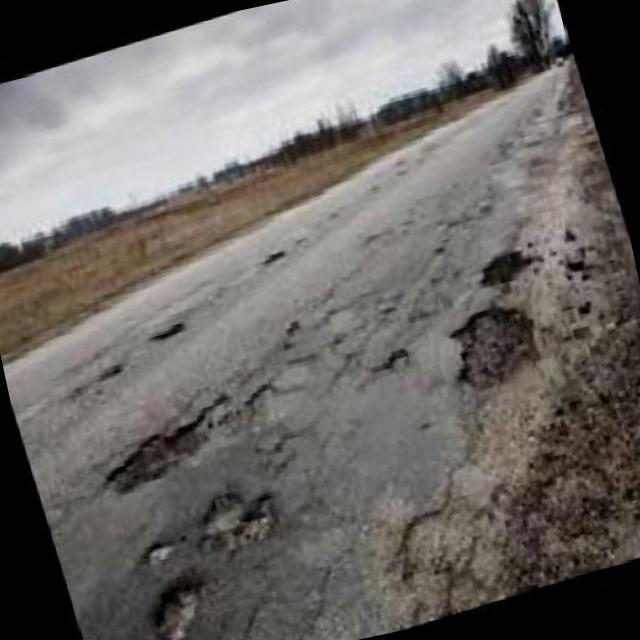Pothole: (103, 403, 220, 495), (448, 302, 539, 398), (201, 492, 270, 549), (157, 575, 200, 640), (480, 249, 534, 295)
